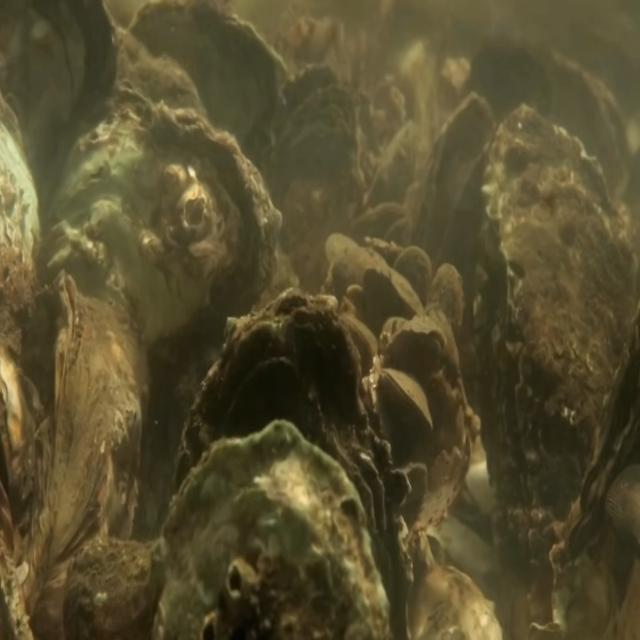Oyster-Closed: (49, 98, 283, 512), (179, 286, 410, 640), (472, 101, 632, 544), (149, 419, 388, 640), (378, 368, 432, 432), (386, 325, 448, 373)
Oyster-Indeterminate: (28, 270, 147, 640), (417, 90, 498, 320), (363, 264, 423, 318), (392, 245, 432, 316), (430, 263, 463, 338)
Oyster-Open: (261, 62, 358, 274)
